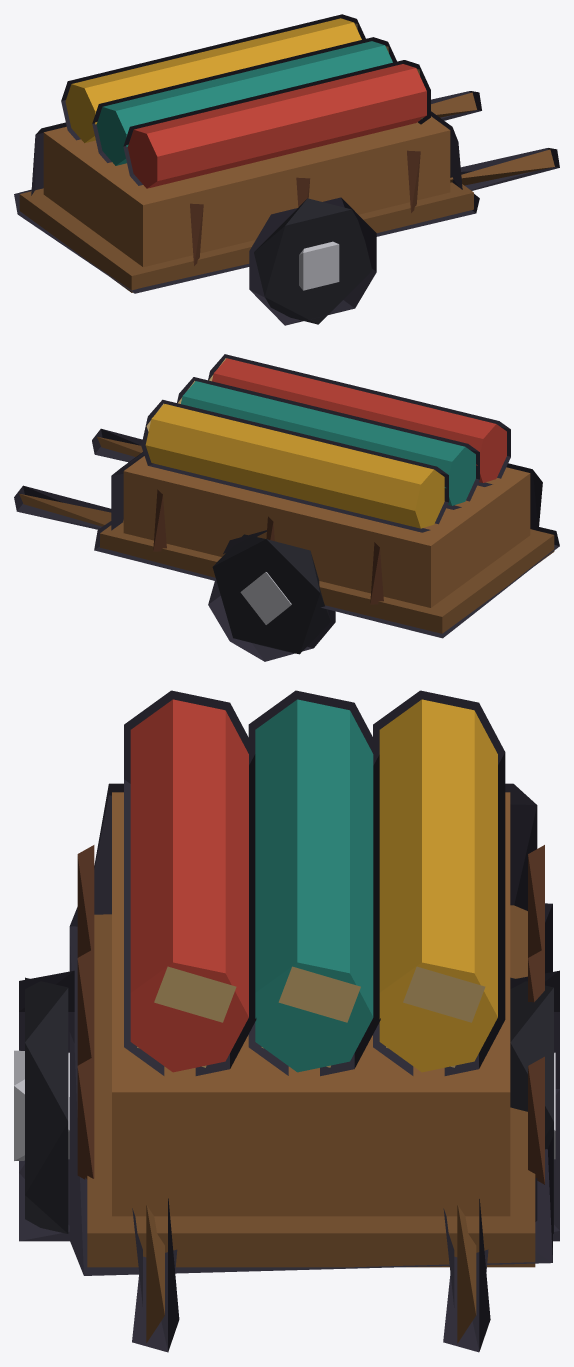
The model's file is cart-lod1.glb.
The picture shows the model from 3 angles, top to bottom: view 1: azimuth 30°, elevation 25°; view 2: azimuth 150°, elevation 25°; view 3: azimuth 270°, elevation 25°; orthographic projection. The views are drawn at different scales.
Parts seen in each view (by area): view 1: cart; view 2: cart; view 3: cart.
Boxes of the visible parts, left/top/right/bottom form: cart: left=14, top=14, right=559, bottom=325; cart: left=14, top=354, right=559, bottom=661; cart: left=14, top=690, right=559, bottom=1352.
Size of the model in its own units: 3.27 by 1.44 by 1.75.
